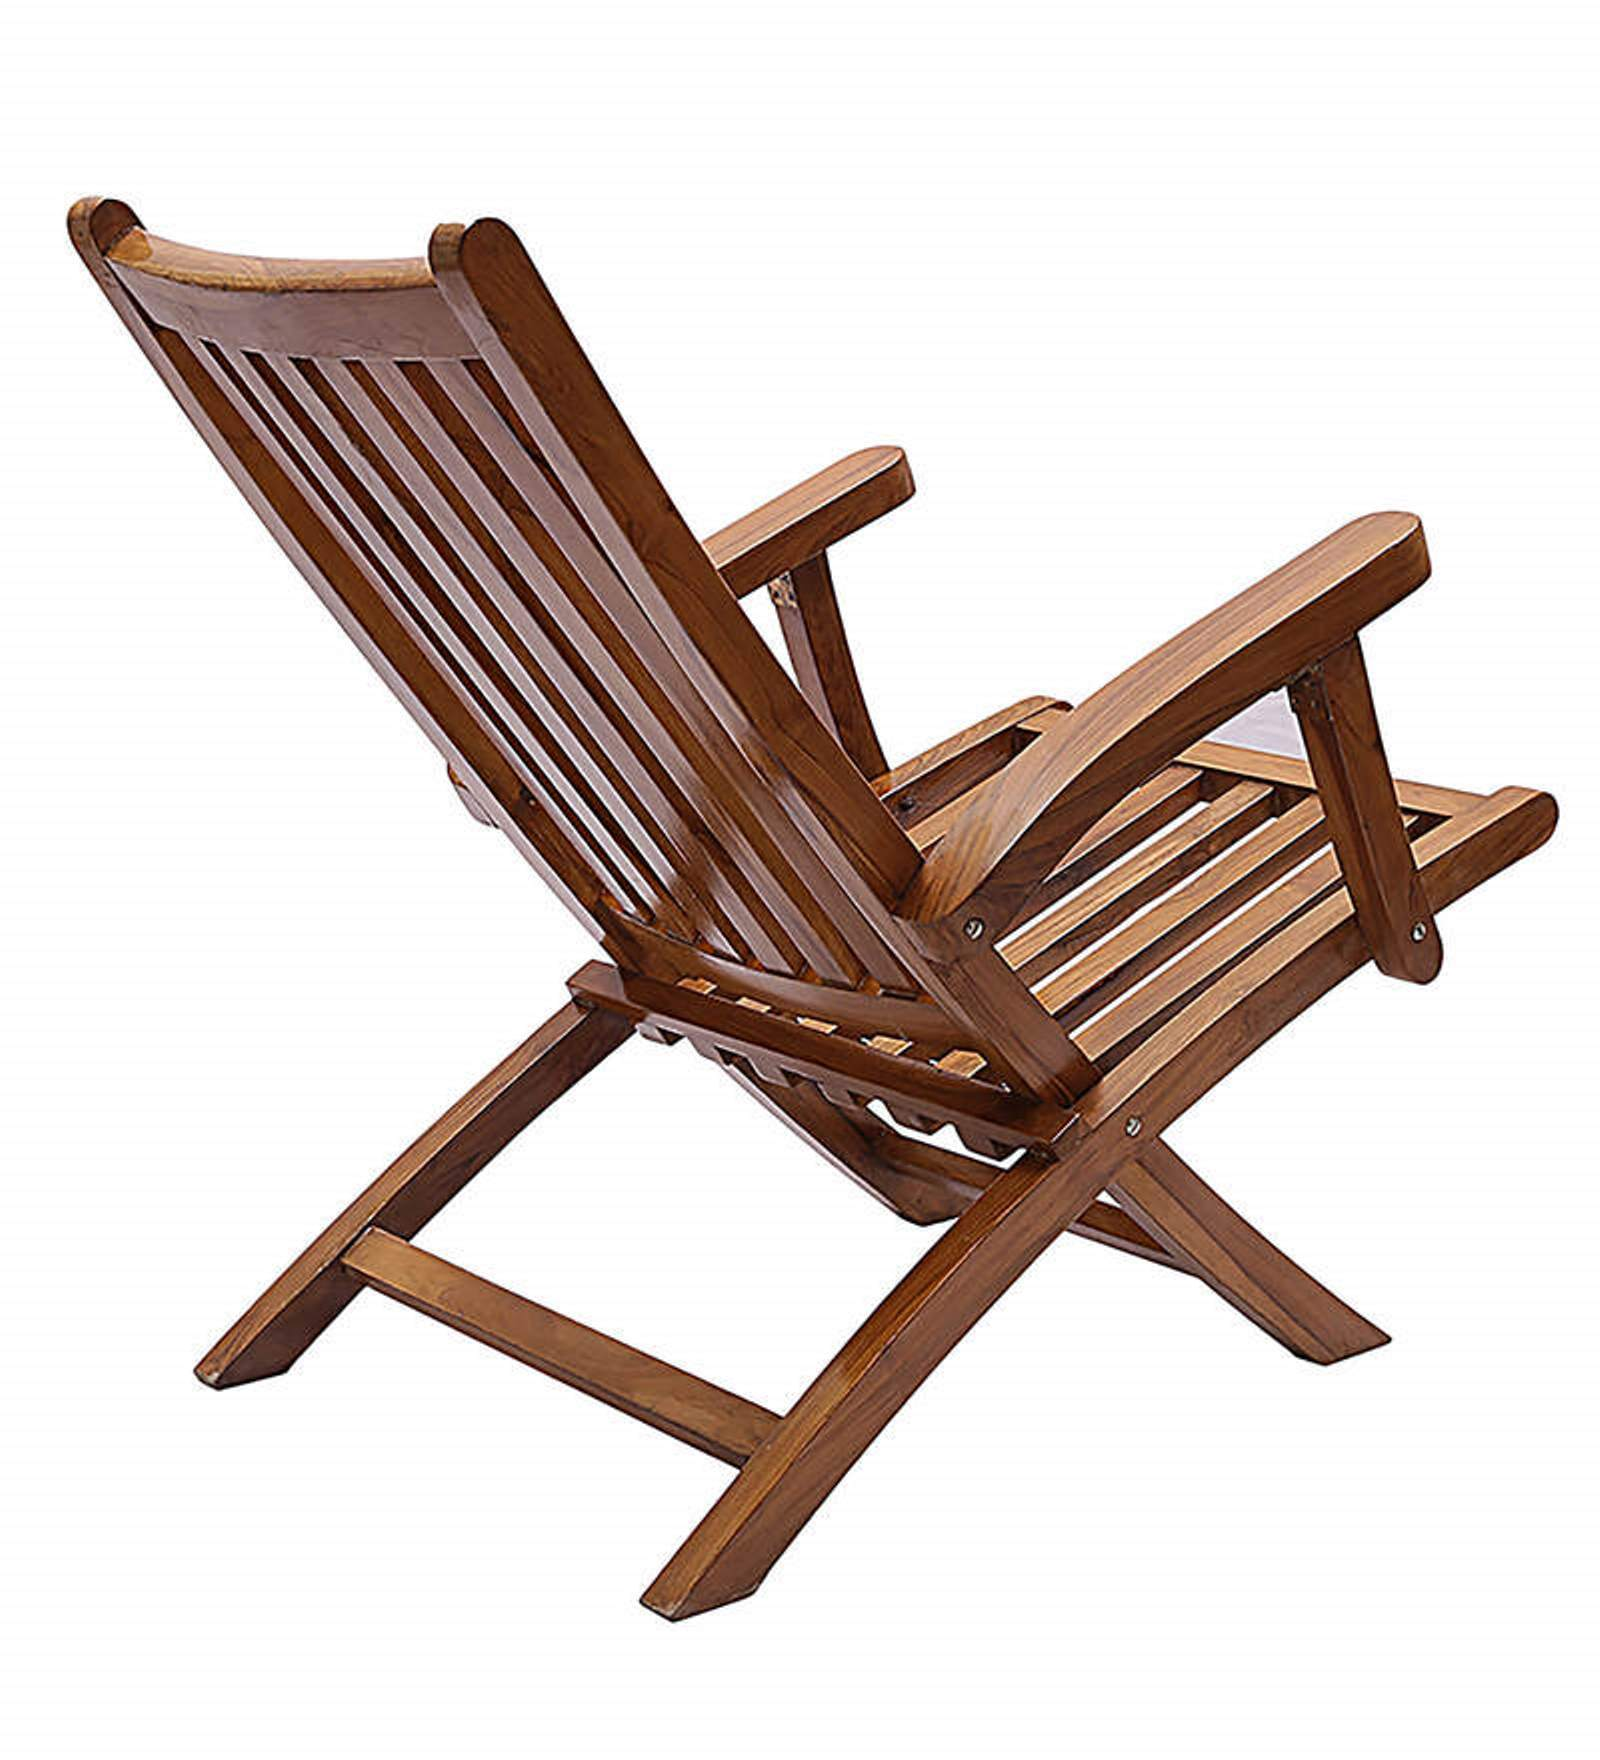Omak Teak Wood Folding Chair in Natural Teak Finish by Finesse: (57, 189, 1565, 1619)
